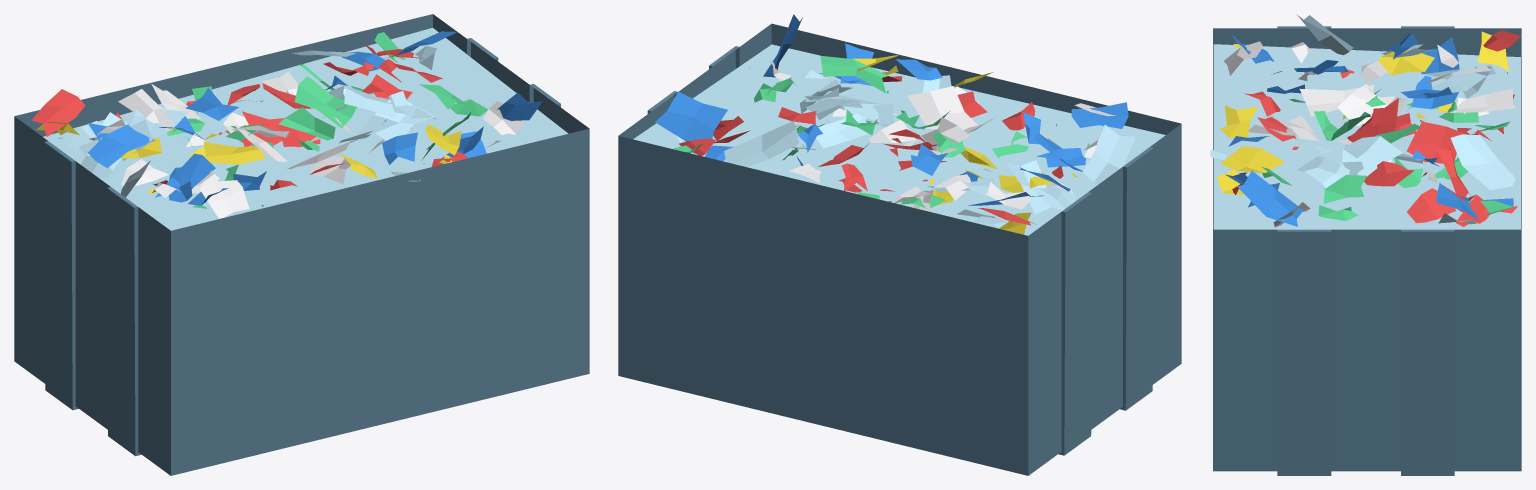
The model's file is Caja con trozitos de plastico.fbx.
3 renders of one model, left to right at view 1: azimuth 30°, elevation 25°; view 2: azimuth 150°, elevation 25°; view 3: azimuth 270°, elevation 25°, orthographic. The views are drawn at different scales.
Parts seen in each view (by area): view 1: Contenedor industrial de plastico; view 2: Contenedor industrial de plastico; view 3: Contenedor industrial de plastico.
Part boxes in pixels (left/top/right/bottom): Contenedor industrial de plastico: left=14, top=14, right=589, bottom=475; Contenedor industrial de plastico: left=618, top=14, right=1181, bottom=475; Contenedor industrial de plastico: left=1210, top=14, right=1521, bottom=475.
Bounding box in the file's own units: 331 × 210 × 212.
